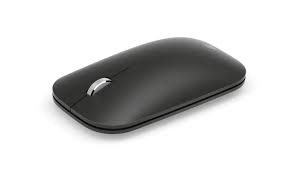mouse: (42, 28, 263, 140)
